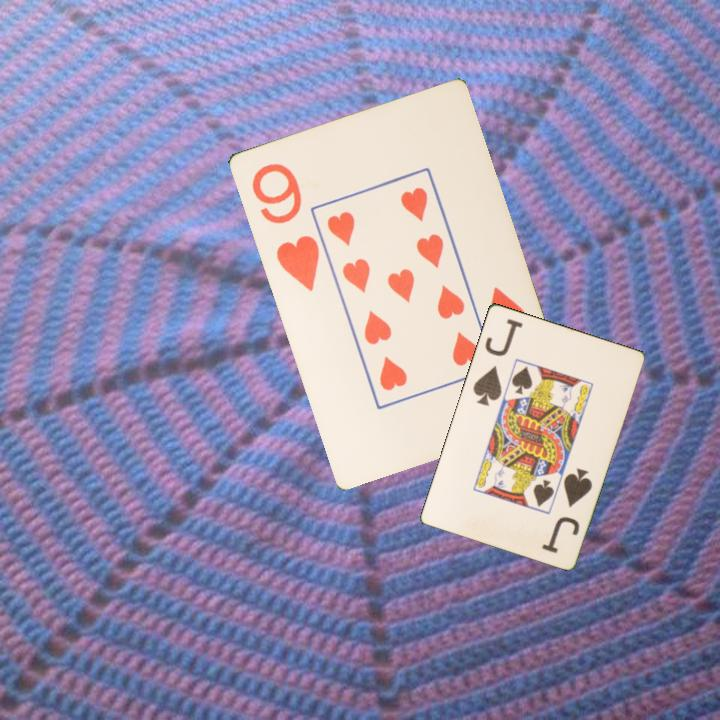9h: (247, 159, 322, 294)
Js: (469, 315, 526, 409), (538, 464, 595, 556)
